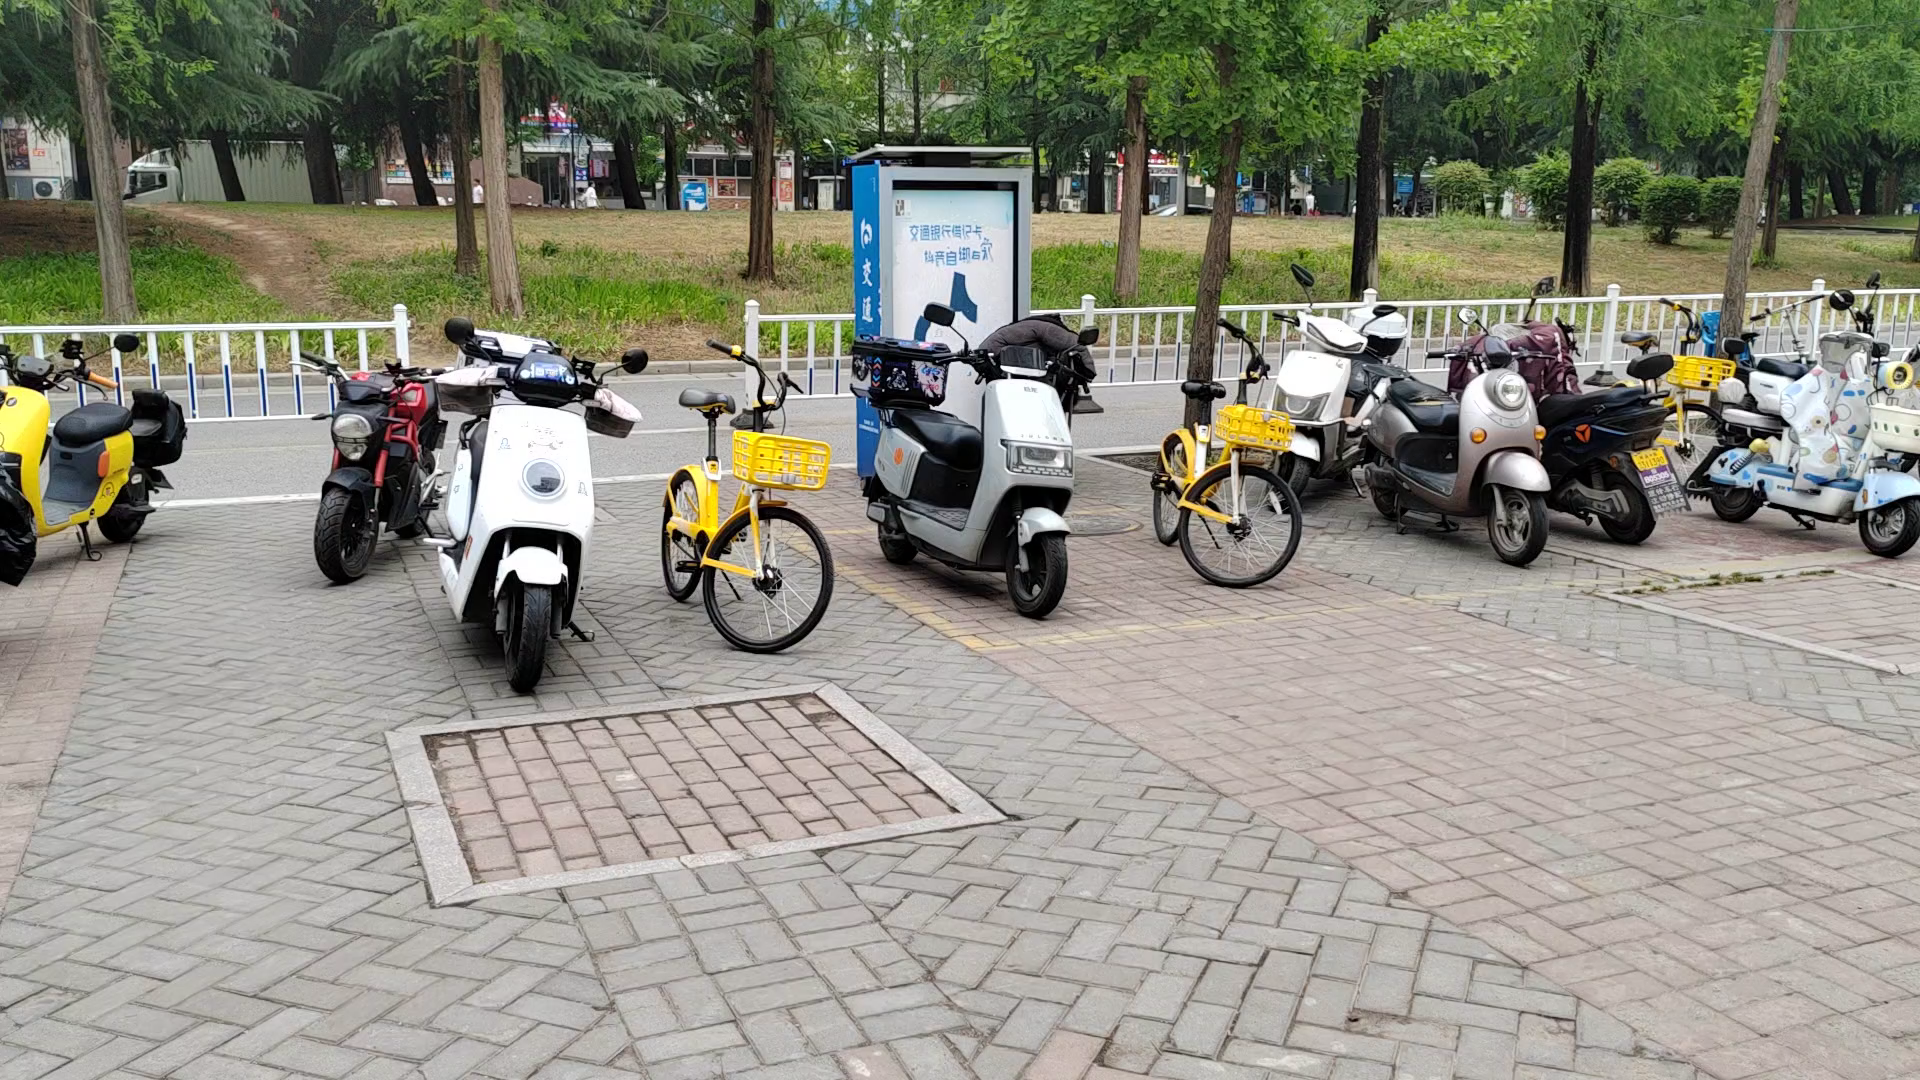others: (421, 309, 596, 724), (872, 336, 1089, 644), (1461, 289, 1669, 545), (1370, 334, 1552, 612), (3, 322, 189, 575), (1727, 353, 1920, 553), (284, 340, 423, 571), (1280, 272, 1402, 518)
shared_bike_meituan: (647, 331, 835, 669), (1151, 301, 1317, 615), (1613, 297, 1733, 487)
